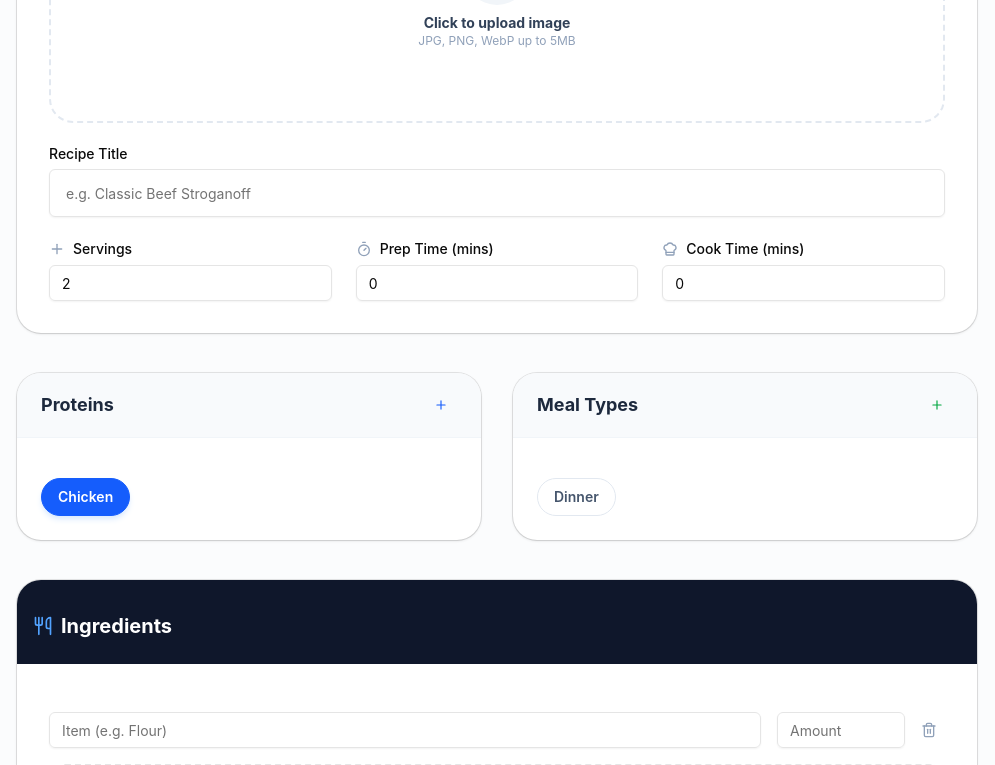
Test case: AddRecipe Page › can add a new protein category on the fly
(page scrolled)
Expected: the button "Chicken" is shown, [41, 478, 130, 516]
Click the button without text in the row of "Proteins" at (441, 405), box [425, 389, 457, 421]
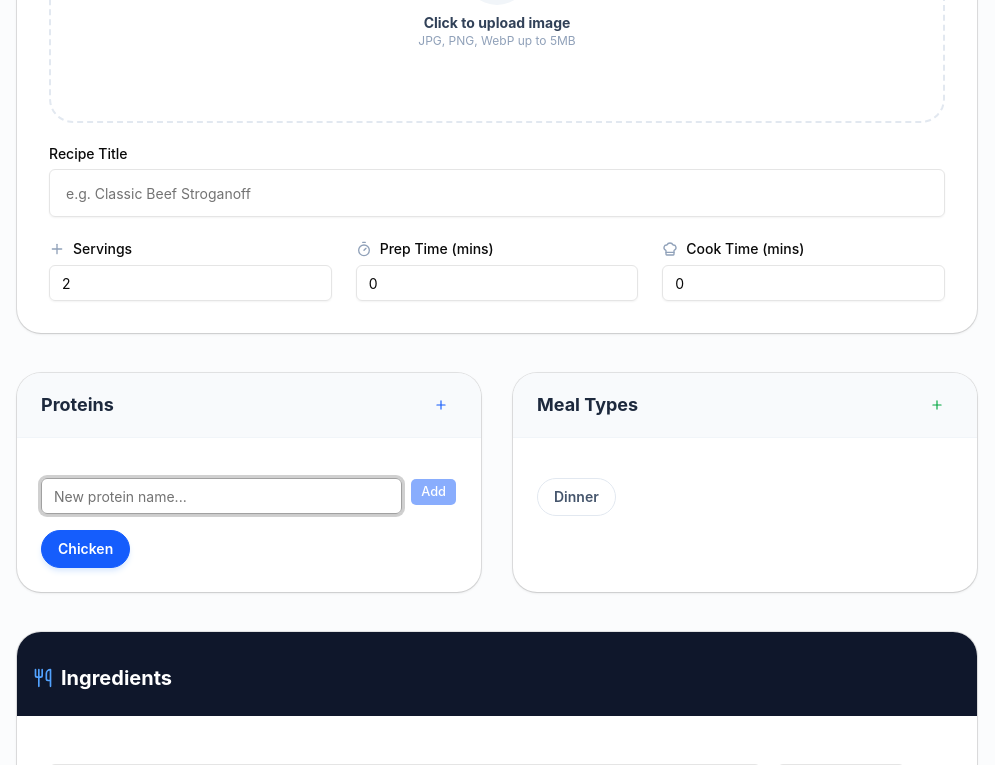
Note: Type new protein name
Type "Fish" into the field with placeholder "New protein name..." at (222, 496), box [41, 478, 402, 514]
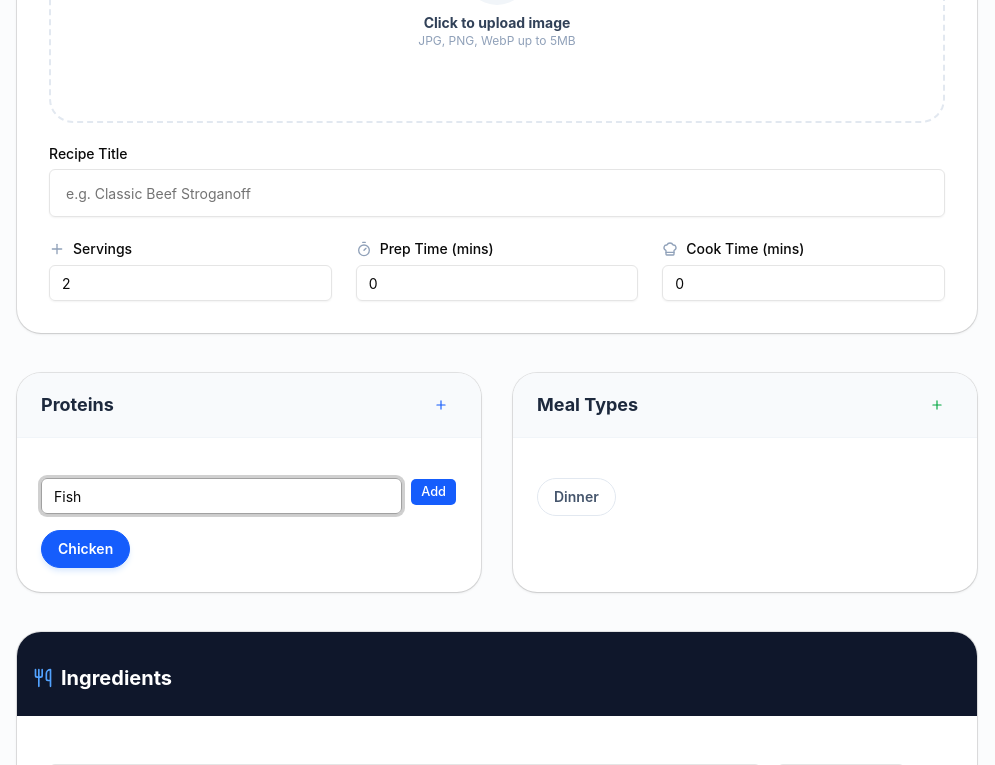
Note: Click Add
Click the button with aria-label "Confirm add protein" at (434, 492), box [410, 478, 457, 506]
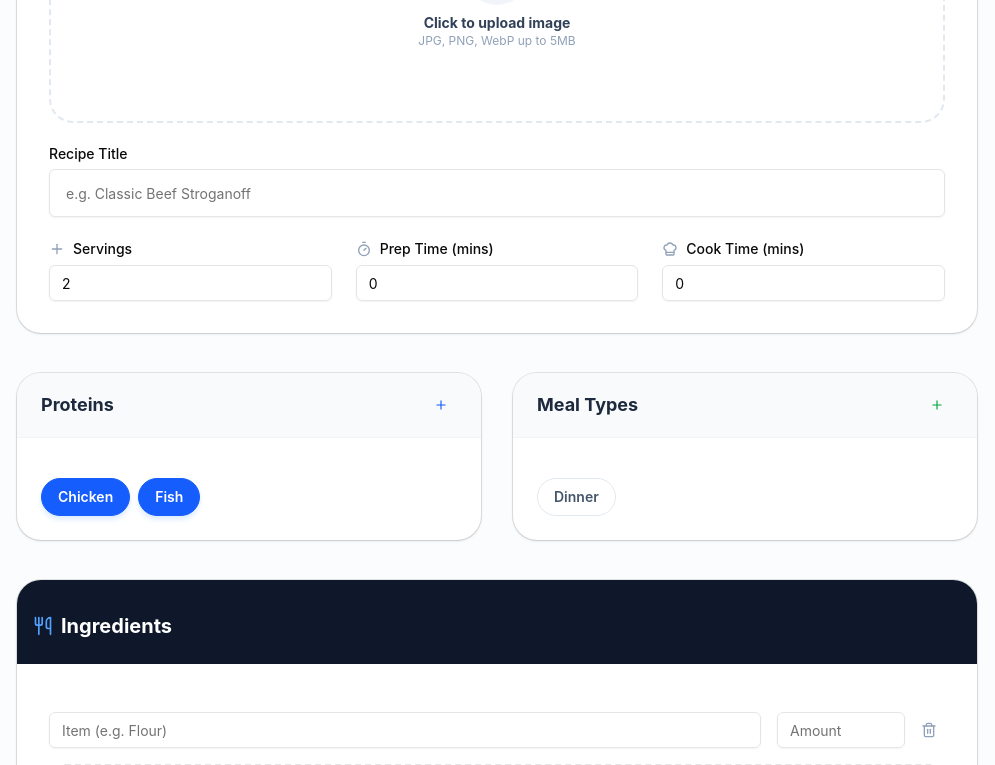
Expected: the button "Fish" is shown, [138, 478, 200, 516]
